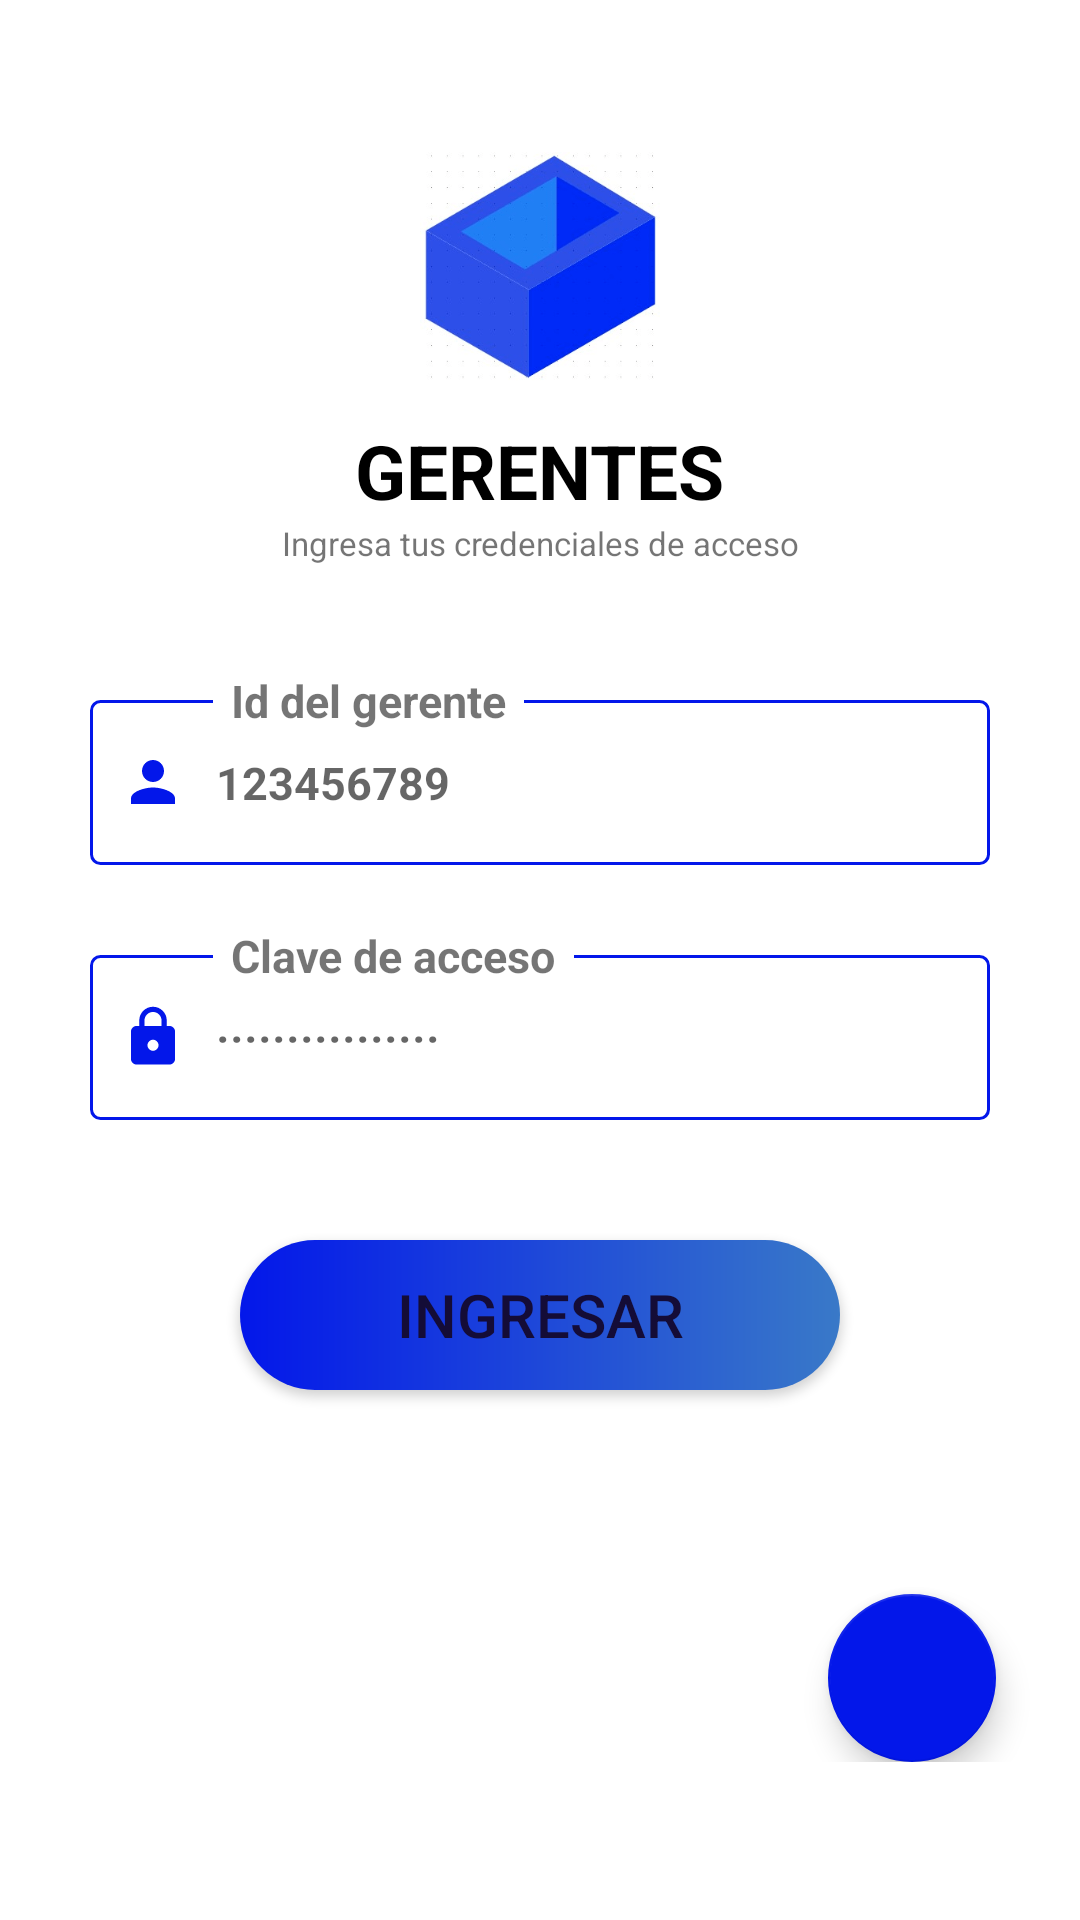

Named icons in this screenshot (1080 × 1920) and their bounding boxes, {"x1": x1, "y1": y1, "x2": x2, "y2": y2}:
clave quickcellar: {"x1": 131, "y1": 1006, "x2": 175, "y2": 1065}
idcliente: {"x1": 131, "y1": 760, "x2": 175, "y2": 804}
